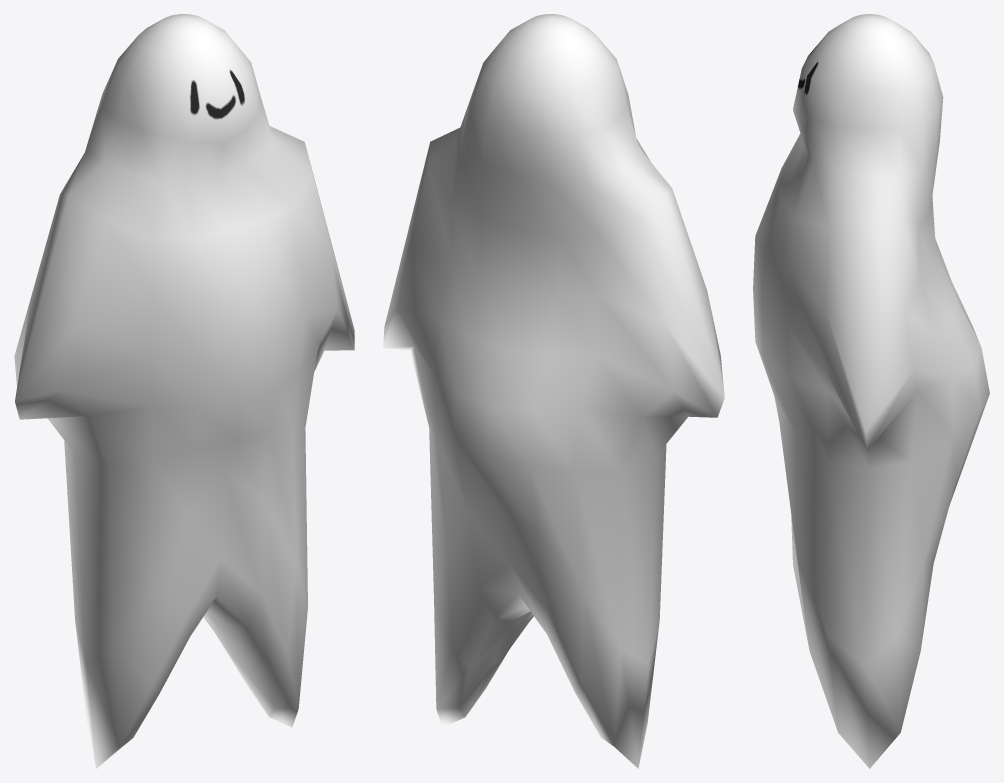
The model's file is animal4.fbx.
3 views of the same model, side by side, from view 1: azimuth 30°, elevation 25°; view 2: azimuth 150°, elevation 25°; view 3: azimuth 270°, elevation 25° (orthographic). The views are drawn at different scales.
Visible parts, largest first — view 1: 3; view 2: 3; view 3: 3.
Boxes of the visible parts, x1,y1,x2,y2 form: 3: [14, 14, 354, 768]; 3: [383, 14, 724, 768]; 3: [753, 14, 989, 768].
Size of the model in its own units: 3.21 by 6.62 by 2.03.
